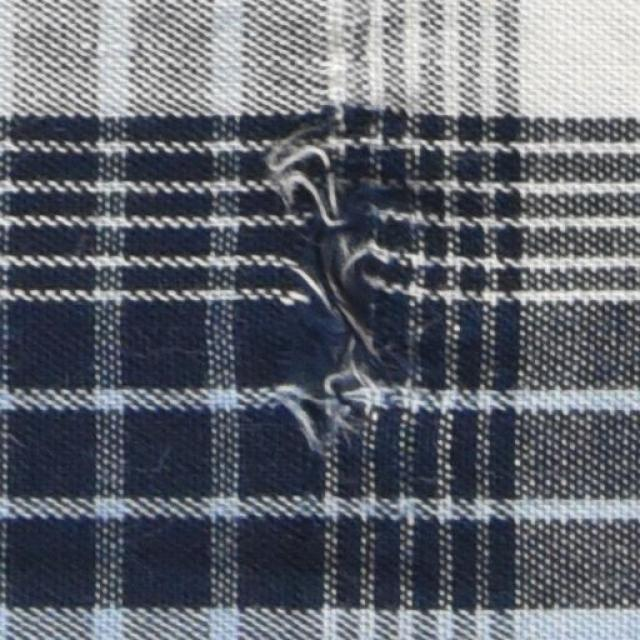Snag: (237, 106, 422, 445)
